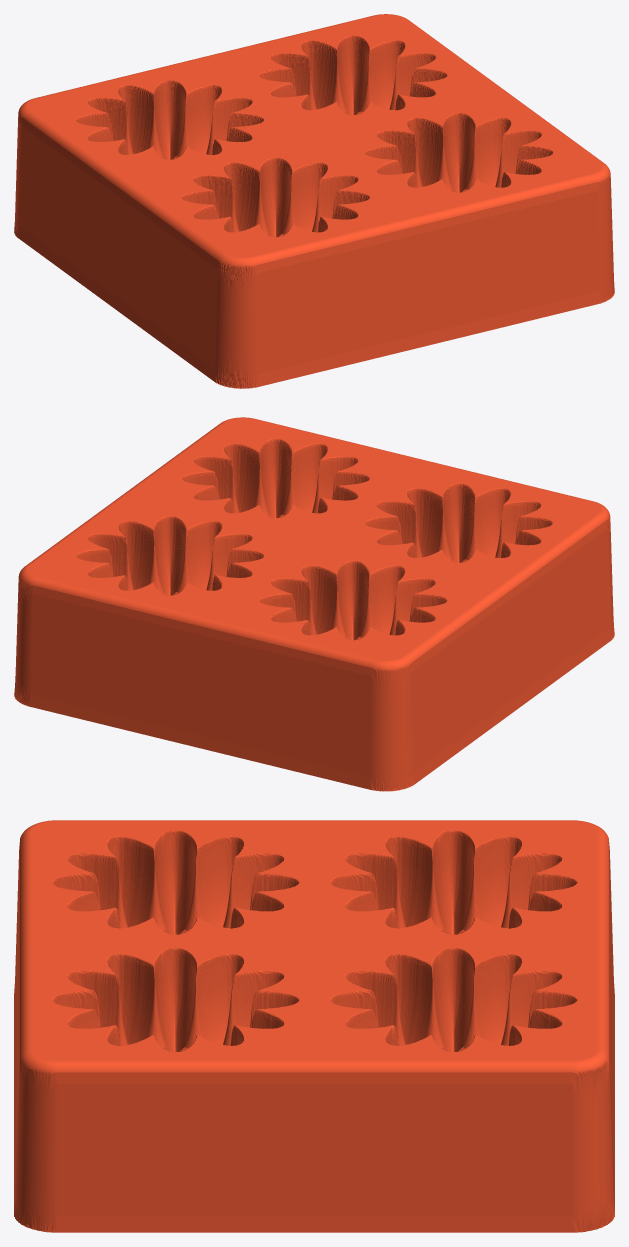
The model's file is mold.glb.
3 renders of one model, top to bottom at view 1: azimuth 30°, elevation 25°; view 2: azimuth 150°, elevation 25°; view 3: azimuth 270°, elevation 25°, orthographic. The views are drawn at different scales.
Visible parts, largest first — view 1: geometry_0; view 2: geometry_0; view 3: geometry_0.
Part boxes in pixels (x1,y1,x2,y2): geometry_0: (14, 14, 614, 388); geometry_0: (14, 417, 614, 791); geometry_0: (14, 820, 614, 1232).
Bounding box in the file's own units: 0.1248 × 0.0377 × 0.1248.
